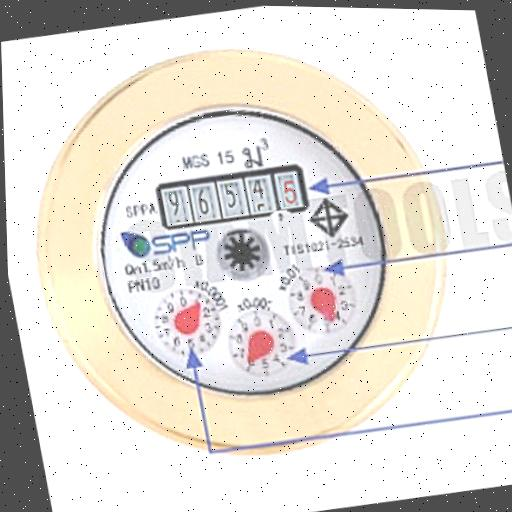4: (250, 179, 271, 213)
5: (220, 182, 243, 216), (279, 175, 300, 207)
6: (193, 186, 214, 222)
9: (165, 191, 188, 225)
border_water_meter_number: (153, 159, 312, 235)
